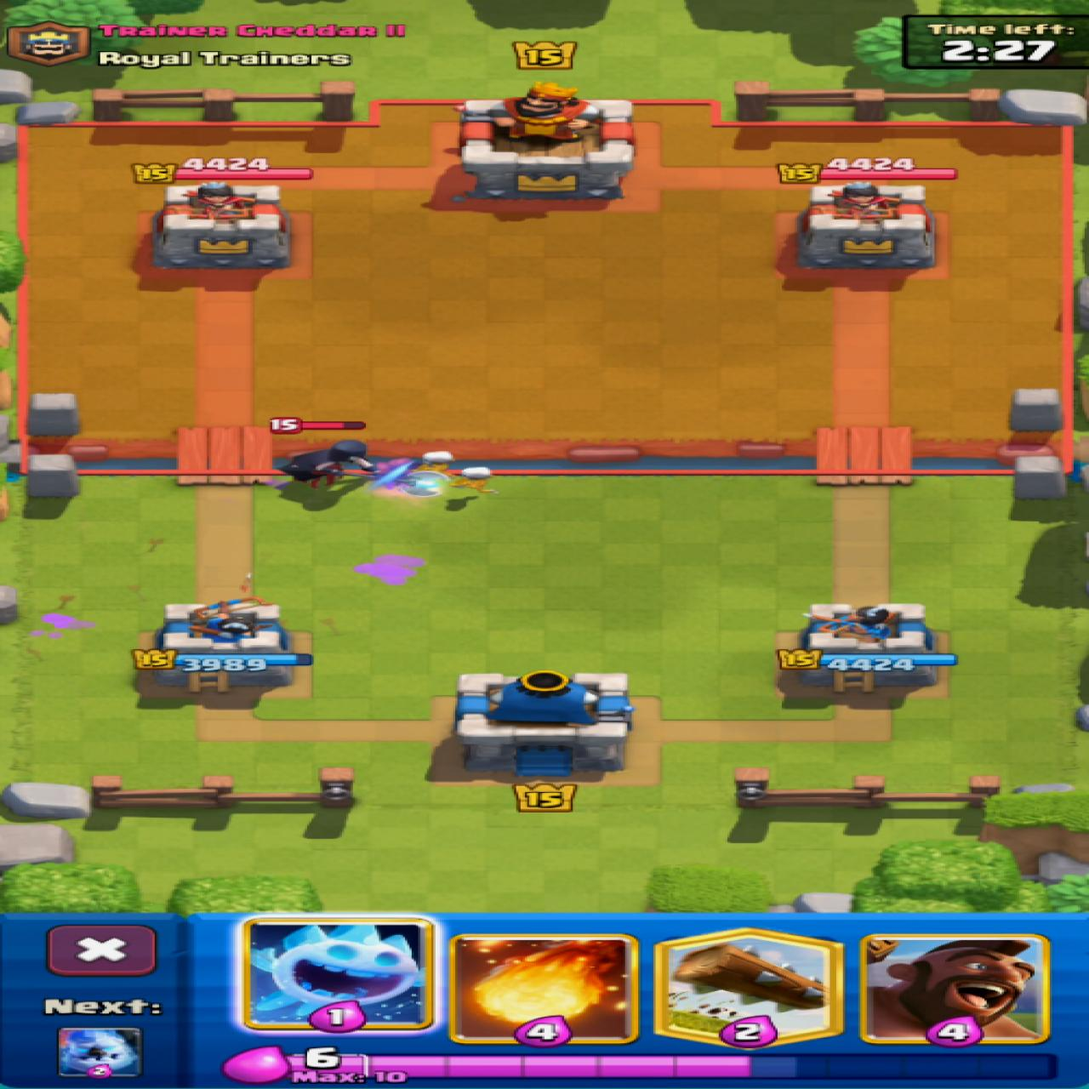Enemy-KingTower: (457, 81, 632, 198)
Enemy-NightWitch: (281, 437, 436, 496), (270, 416, 307, 437), (311, 422, 364, 433)
Enemy-PrincessTower: (155, 182, 290, 268), (799, 182, 932, 266)
